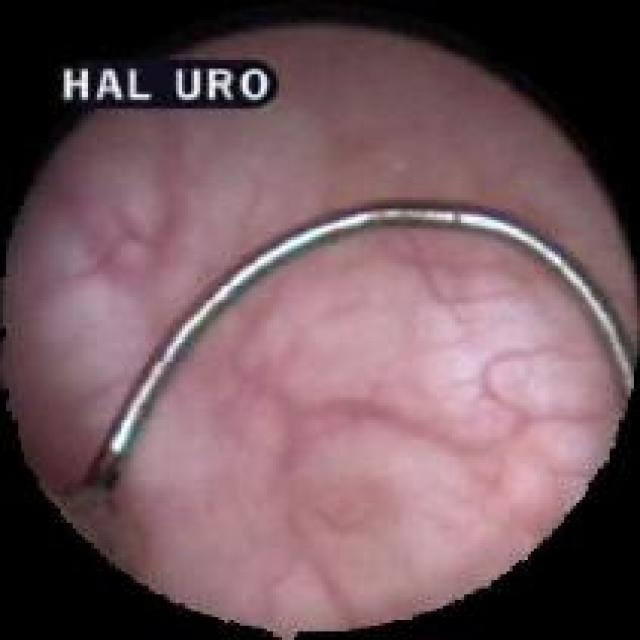color misalignment: (50, 59, 272, 112)
instrument: (86, 196, 634, 500)
